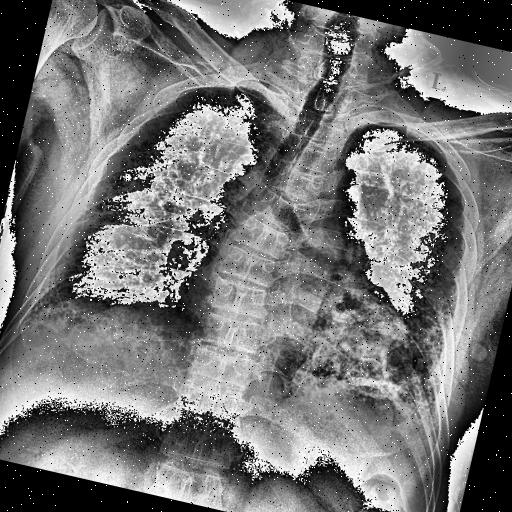13- Pulmonary fibrosis: (336, 142, 500, 422), (160, 250, 166, 254)
3- Cardiomegaly: (156, 241, 428, 414)
4- Consolidation: (294, 268, 456, 424)
5- ILD: (2, 34, 320, 420), (17, 55, 285, 394), (267, 101, 512, 462), (282, 110, 499, 450), (336, 142, 500, 422), (160, 250, 166, 254)
